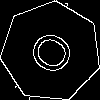O: (26, 26, 86, 84)
